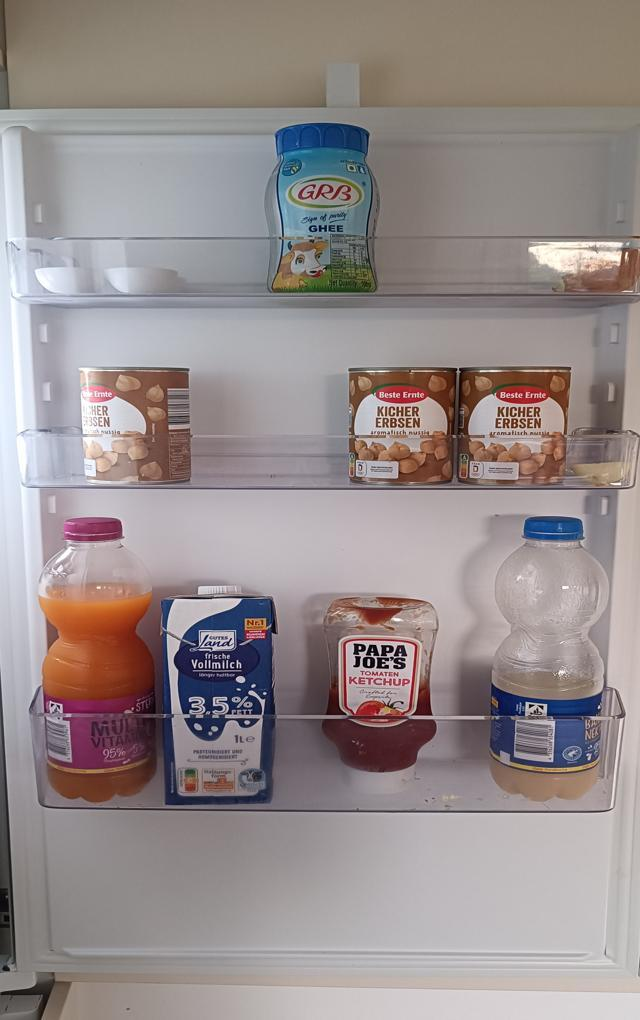bananajuice: (493, 516, 610, 803)
chickpeas: (456, 367, 570, 489), (79, 368, 193, 488), (346, 369, 454, 490)
ghee: (264, 120, 383, 299)
milk: (162, 579, 280, 807)
orangejuice: (36, 515, 161, 803)
tomatoketchup: (323, 593, 438, 793)
